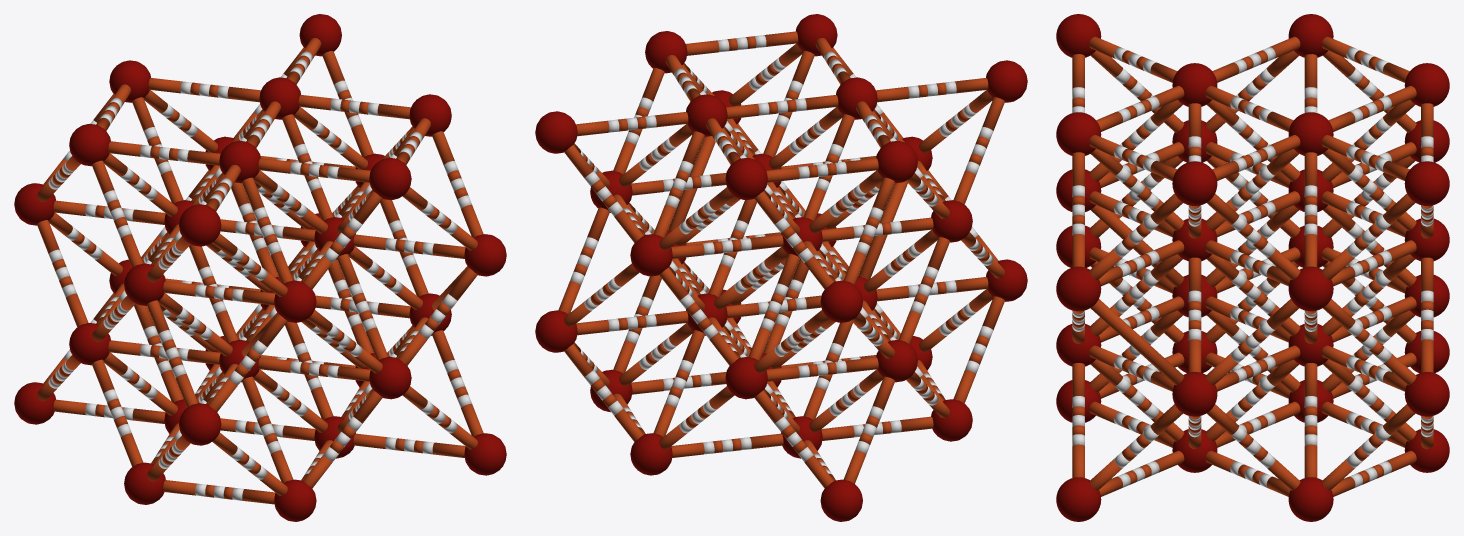
File: 3D_Copper.fbx
The picture shows the model from 3 angles, left to right: view 1: azimuth 30°, elevation 25°; view 2: azimuth 150°, elevation 25°; view 3: azimuth 270°, elevation 25°; orthographic projection. The views are drawn at different scales.
Parts seen in each view (by area): view 1: Shape_IndexedFaceSet; view 2: Shape_IndexedFaceSet; view 3: Shape_IndexedFaceSet.
Part boxes in pixels (box(x1,y1,x2,y2)): Shape_IndexedFaceSet: box(14, 14, 506, 521); Shape_IndexedFaceSet: box(535, 14, 1027, 521); Shape_IndexedFaceSet: box(1056, 14, 1449, 521).
Size of the model in its own units: 6123 by 6112 by 6123.
